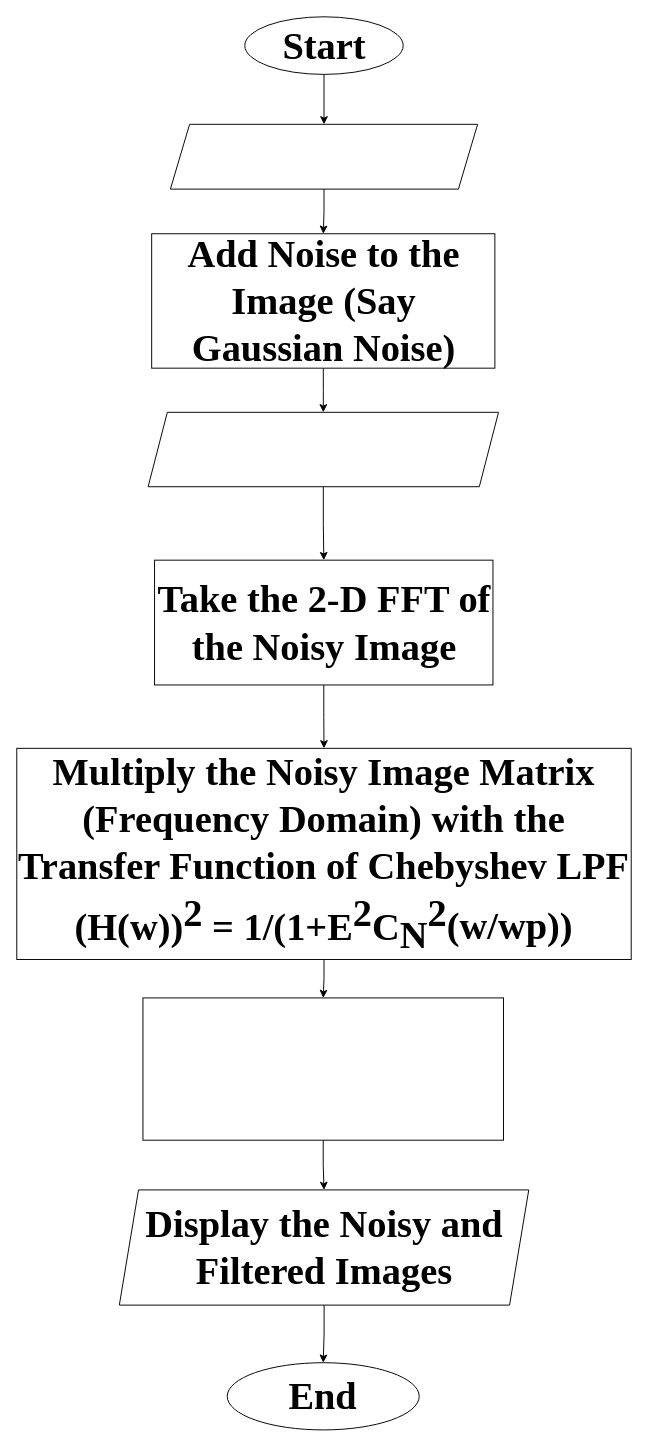
Some shapes in this 648 by 1447 pixel diagram are drawn without their labels. Each missing label, with the box of its shape:
Input an Image: (169, 123, 478, 189)
Select Filter Length (N=20): (147, 411, 499, 487)
Take the 2-D IFFT of the Filtered Image: (142, 997, 504, 1140)
